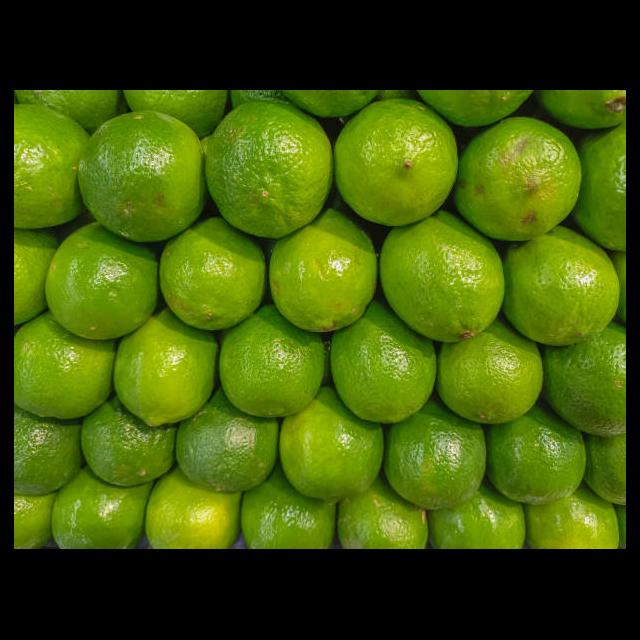lime: (202, 102, 335, 238), (448, 116, 584, 244), (112, 310, 220, 428)
